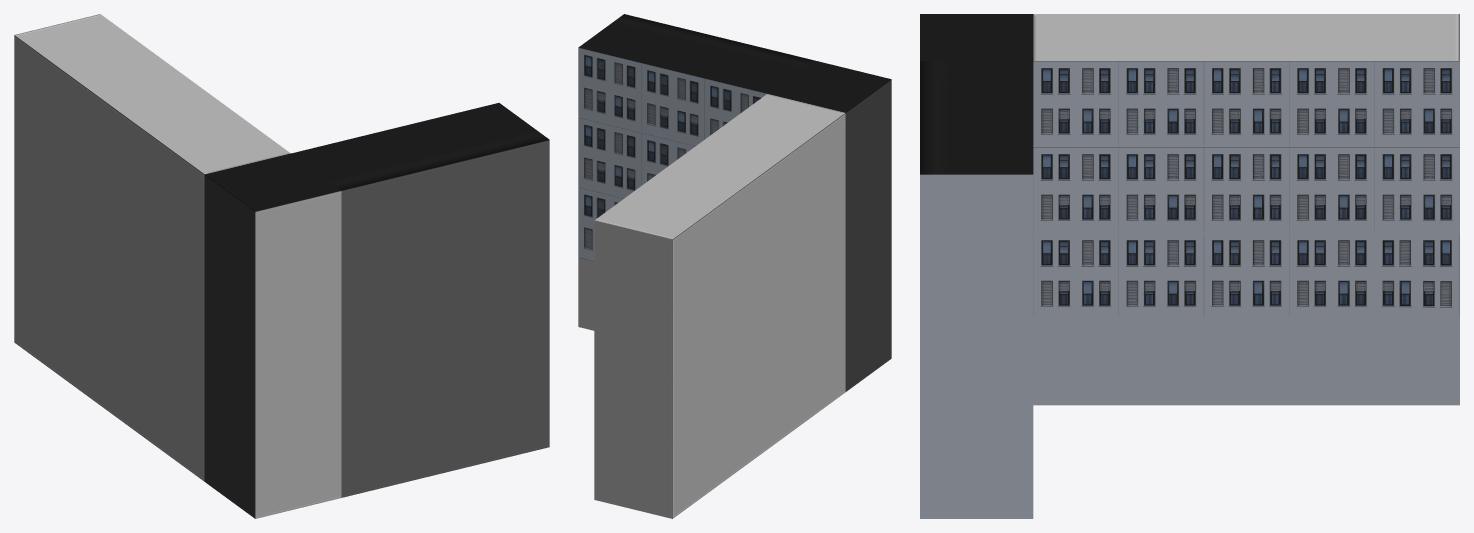
Rendered from Bih_house_03.FBX.
The picture shows the model from 3 angles, left to right: view 1: azimuth 30°, elevation 25°; view 2: azimuth 150°, elevation 25°; view 3: azimuth 270°, elevation 25°; orthographic projection. The views are drawn at different scales.
Visible parts, largest first — view 1: Box125; view 2: Box125; view 3: Box125.
Part boxes in pixels (x1,y1,x2,y2): Box125: (14, 14, 549, 518); Box125: (578, 14, 891, 518); Box125: (920, 14, 1459, 518).
Bounding box in the file's own units: 704 × 703 × 999.
